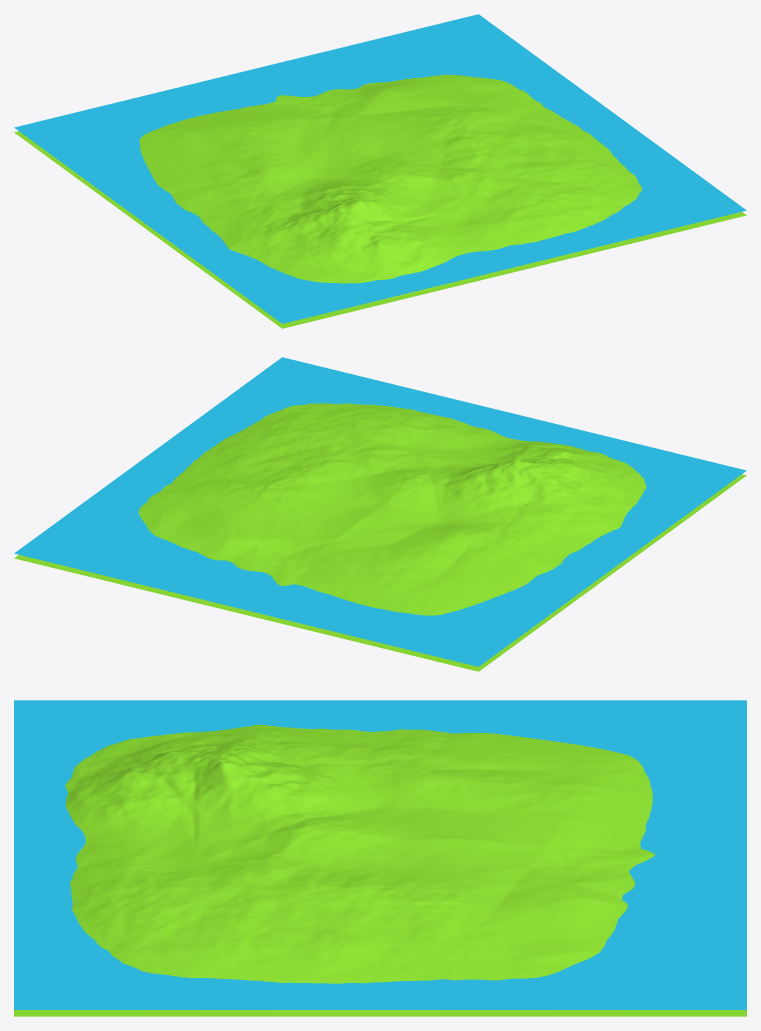
The model's file is bin-ronin-island.glb.
3 renders of one model, top to bottom at view 1: azimuth 30°, elevation 25°; view 2: azimuth 150°, elevation 25°; view 3: azimuth 270°, elevation 25°, orthographic. The views are drawn at different scales.
Parts seen in each view (by area): view 1: Landscape.003, Landscape_plane.003; view 2: Landscape.003, Landscape_plane.003; view 3: Landscape.003, Landscape_plane.003.
Part boxes in pixels (x1,y1,x2,y2): Landscape.003: (14, 74, 746, 328); Landscape_plane.003: (14, 14, 746, 323); Landscape.003: (14, 403, 746, 671); Landscape_plane.003: (14, 357, 746, 666); Landscape.003: (14, 725, 746, 1016); Landscape_plane.003: (14, 700, 746, 1009).
Size of the model in its own units: 1000 by 70.64 by 1000.
